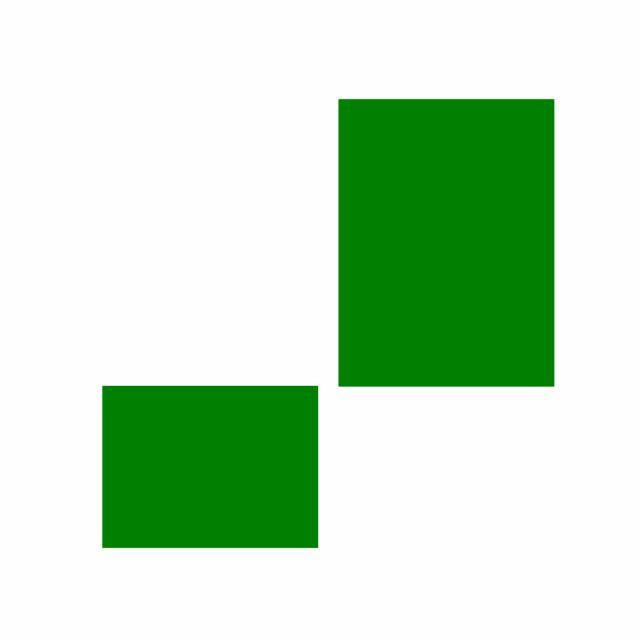Marubozu: (328, 96, 566, 390)
